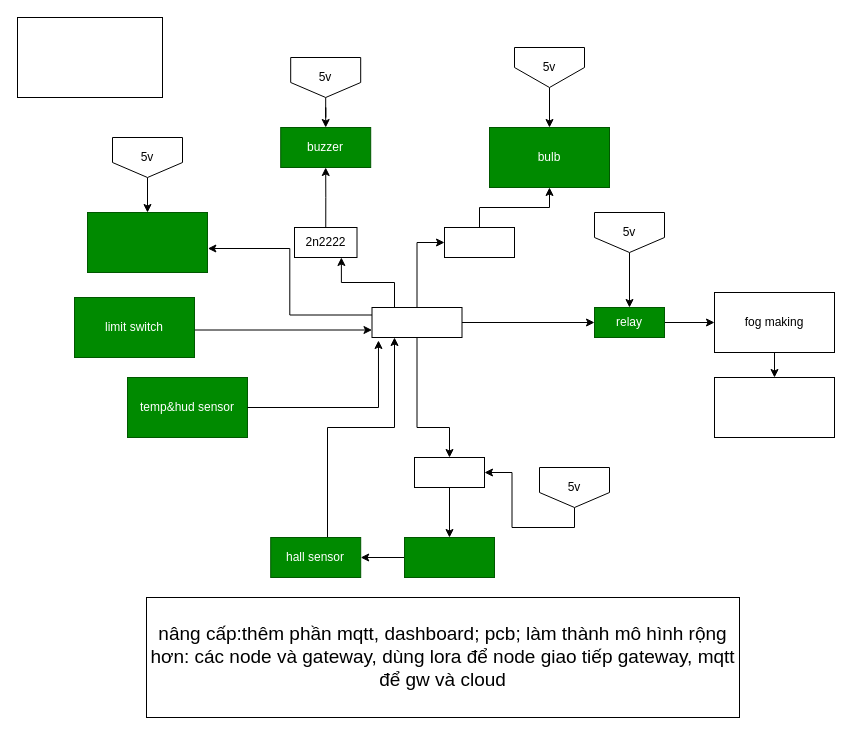
Some shapes in this 852 by 735 pixel diagram are drawn without their labels. The centre of each missing label's shape, as x and y in pixels:
"egg incubator" belongs at point 89,57.
"esp32" belongs at point 416,322.
"fan" belongs at point 449,557.
"servo" belongs at point 147,242.
"si2300ds" belongs at point 479,242.
"tb6612" belongs at point 449,472.
"water" belongs at point 774,407.
